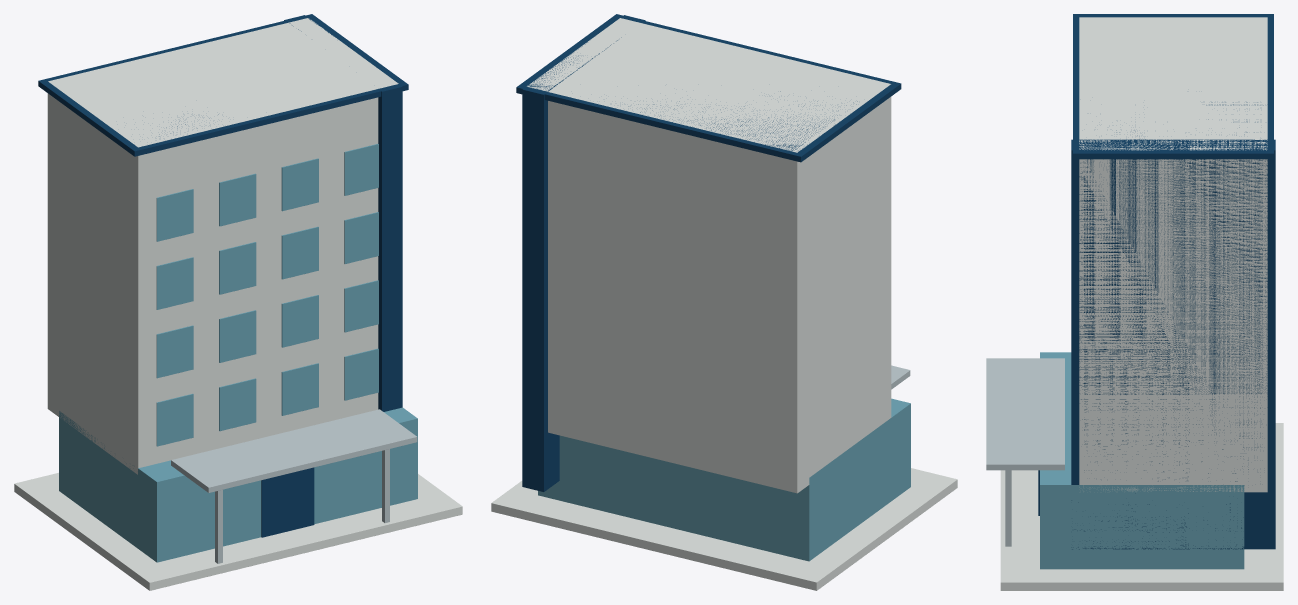
3 views of the same model, side by side, from view 1: azimuth 30°, elevation 25°; view 2: azimuth 150°, elevation 25°; view 3: azimuth 270°, elevation 25° (orthographic). The views are drawn at different scales.
Parts seen in each view (by area): view 1: TOWER_FrontPier, TOWER_Side, TOWER_Roof, FOUNDATION, DROPOFF_Canopy, LOBBY_Side, CORE_FrontPier, LOBBY_FrontPier, LOBBY_FrontPier.001, ROOF, LOBBY_Entry, GUESTROOM_Window.006 (+21 smaller); view 2: TOWER_Back, TOWER_Side, TOWER_Roof, LOBBY_Back, FOUNDATION, LOBBY_Side, CORE_Back, ROOF, CORE_Side.001, CORE_Side; view 3: TOWER_Side.001, CORE_Side, TOWER_Roof, LOBBY_Side.001, FOUNDATION, DROPOFF_Canopy, ROOF, CORE_Roof, TOWER_Back, TOWER_FrontPier, LOBBY_Roof, CORE_Back (+2 smaller).
Boxes of the visible parts, x1=… form: TOWER_FrontPier: x1=135, y1=83, x2=394, y2=473; TOWER_Side: x1=48, y1=93, x2=142, y2=473; TOWER_Roof: x1=48, y1=18, x2=398, y2=146; FOUNDATION: x1=14, y1=472, x2=462, y2=590; DROPOFF_Canopy: x1=171, y1=409, x2=417, y2=492; LOBBY_Side: x1=59, y1=411, x2=160, y2=560; CORE_FrontPier: x1=381, y1=86, x2=402, y2=411; LOBBY_FrontPier: x1=154, y1=474, x2=261, y2=562; LOBBY_FrontPier.001: x1=314, y1=417, x2=417, y2=523; ROOF: x1=38, y1=14, x2=408, y2=156; LOBBY_Entry: x1=261, y1=467, x2=314, y2=537; GUESTROOM_Window.006: x1=219, y1=242, x2=256, y2=294; TOWER_Back: x1=538, y1=88, x2=799, y2=493; TOWER_Side: x1=793, y1=84, x2=891, y2=490; TOWER_Roof: x1=527, y1=18, x2=890, y2=151; LOBBY_Back: x1=538, y1=435, x2=811, y2=561; FOUNDATION: x1=491, y1=468, x2=957, y2=590; LOBBY_Side: x1=805, y1=402, x2=910, y2=560; CORE_Back: x1=522, y1=89, x2=544, y2=491; ROOF: x1=516, y1=14, x2=901, y2=162; CORE_Side.001: x1=542, y1=20, x2=645, y2=491; CORE_Side: x1=522, y1=15, x2=624, y2=486; TOWER_Side.001: x1=1079, y1=148, x2=1267, y2=491; CORE_Side: x1=1071, y1=149, x2=1275, y2=548; TOWER_Roof: x1=1079, y1=17, x2=1267, y2=150; LOBBY_Side.001: x1=1040, y1=485, x2=1244, y2=568; FOUNDATION: x1=1000, y1=423, x2=1283, y2=590; DROPOFF_Canopy: x1=986, y1=358, x2=1064, y2=470; ROOF: x1=1073, y1=14, x2=1273, y2=159; CORE_Roof: x1=1071, y1=139, x2=1275, y2=151; TOWER_Back: x1=1263, y1=48, x2=1267, y2=492; TOWER_FrontPier: x1=1079, y1=42, x2=1083, y2=487; LOBBY_Roof: x1=1040, y1=352, x2=1243, y2=489; CORE_Back: x1=1274, y1=139, x2=1275, y2=548.
Size of the model in its own units: 12 by 15 by 9.45.
